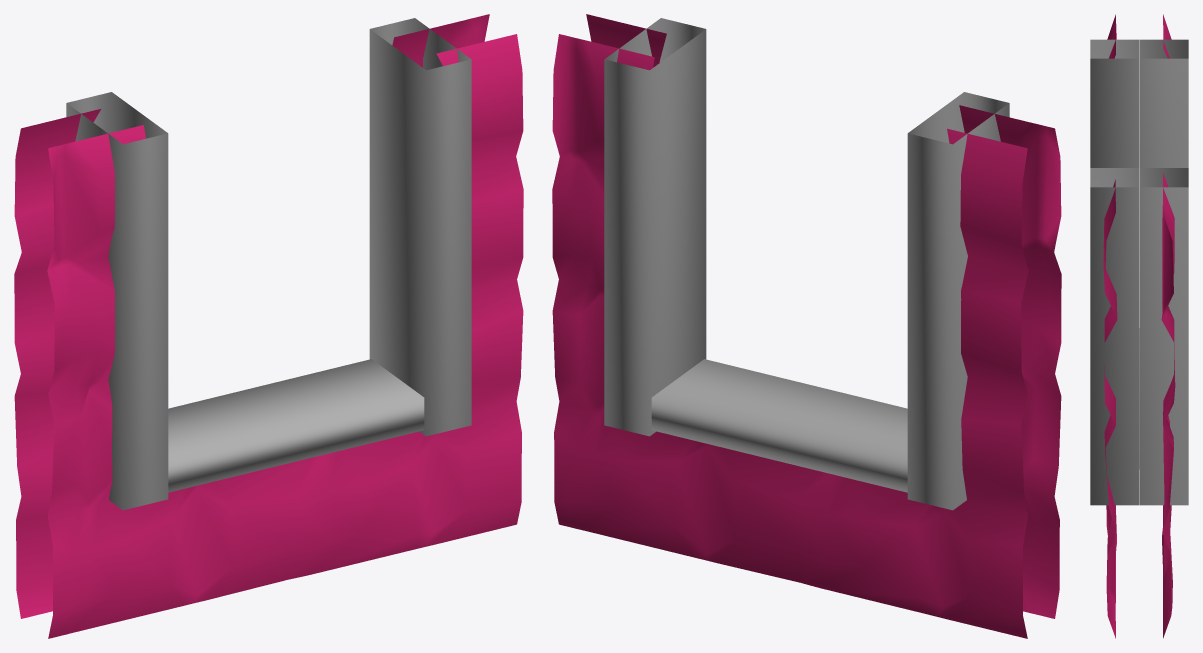
File: WindowFrame_Bottom_Mesh.fbx
3 views of the same model, side by side, from view 1: azimuth 30°, elevation 25°; view 2: azimuth 150°, elevation 25°; view 3: azimuth 270°, elevation 25° (orthographic). The views are drawn at different scales.
Parts seen in each view (by area): view 1: WindowFrame_Bottom; view 2: WindowFrame_Bottom; view 3: WindowFrame_Bottom.
Part boxes in pixels (<box>): WindowFrame_Bottom: <box>14,14,523,638</box>; WindowFrame_Bottom: <box>552,14,1061,638</box>; WindowFrame_Bottom: <box>1090,14,1188,638</box>.
Bounding box in the file's own units: 100 × 100 × 20.89.
